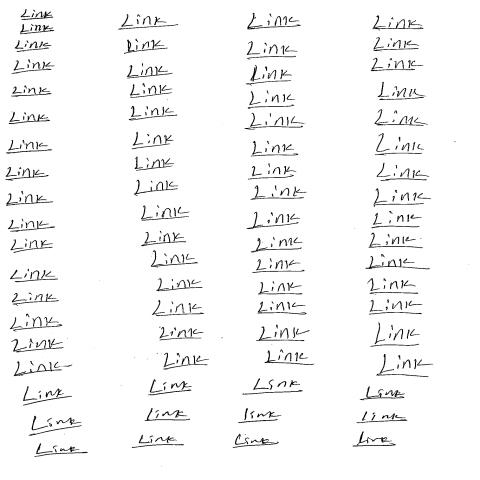Link: (374, 353, 430, 377), (374, 132, 424, 156), (372, 186, 431, 206), (27, 415, 80, 436), (362, 253, 430, 269), (244, 378, 302, 396), (244, 112, 300, 130), (245, 211, 301, 229), (8, 312, 61, 331), (244, 65, 294, 85), (366, 276, 418, 295), (246, 12, 300, 30), (373, 109, 427, 127), (151, 298, 204, 316), (254, 324, 310, 341), (376, 81, 426, 100), (19, 384, 64, 405), (366, 232, 425, 248), (244, 41, 296, 59), (370, 210, 422, 228), (246, 91, 297, 109), (117, 14, 174, 30), (249, 184, 306, 200), (11, 359, 61, 377), (4, 189, 54, 207), (248, 236, 303, 252), (367, 299, 422, 315), (147, 377, 193, 396), (150, 249, 198, 267), (140, 204, 190, 221), (371, 14, 424, 30), (162, 352, 209, 370), (130, 131, 174, 150), (12, 337, 62, 353), (235, 407, 282, 424), (139, 230, 186, 247), (246, 163, 295, 179), (350, 430, 396, 447), (133, 178, 179, 195), (34, 443, 86, 458), (128, 104, 176, 120), (250, 140, 295, 157), (251, 258, 302, 273), (256, 300, 307, 315), (132, 433, 182, 448), (154, 277, 204, 292), (129, 81, 173, 98), (125, 63, 171, 79), (371, 36, 419, 51), (369, 57, 420, 71), (5, 139, 52, 154), (263, 350, 310, 365), (230, 433, 277, 448), (10, 58, 54, 74), (10, 290, 60, 304), (9, 268, 58, 282), (256, 281, 304, 295), (9, 238, 53, 253), (3, 166, 50, 180), (123, 38, 164, 54), (133, 155, 174, 171), (158, 326, 204, 340), (8, 110, 48, 126), (7, 219, 54, 232), (360, 386, 403, 400), (144, 407, 187, 421), (354, 412, 406, 423), (9, 85, 53, 97), (13, 38, 50, 52), (19, 9, 54, 21), (19, 23, 54, 35)
